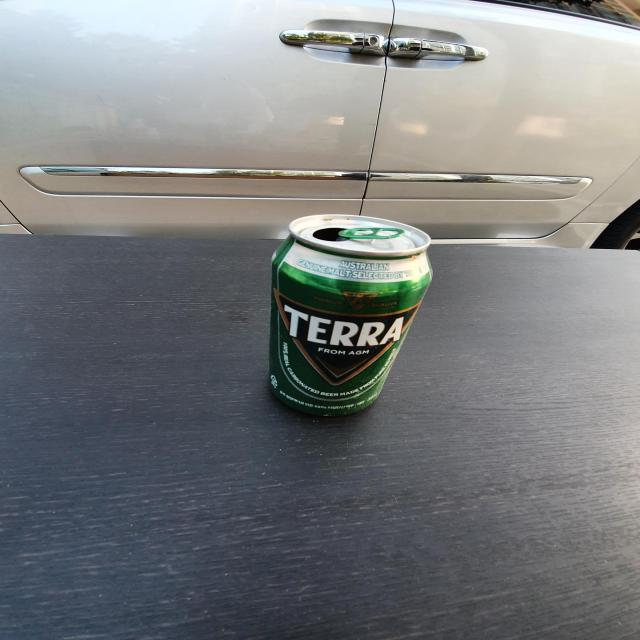can: (269, 214, 432, 416)
